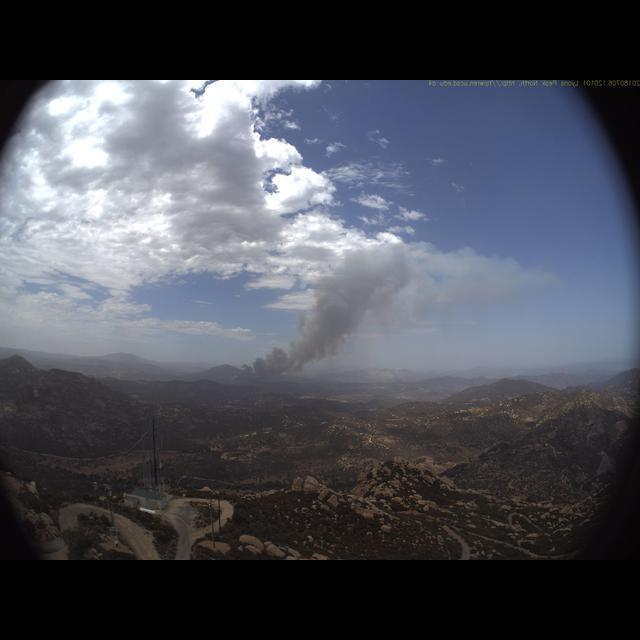Smoke: (209, 237, 487, 391)
